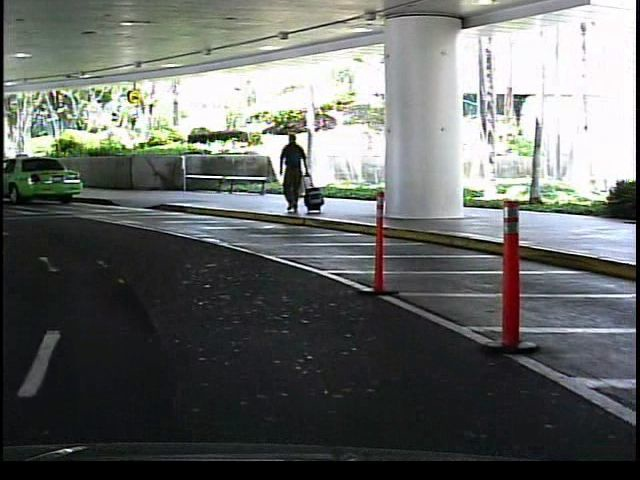person: (277, 127, 315, 219)
